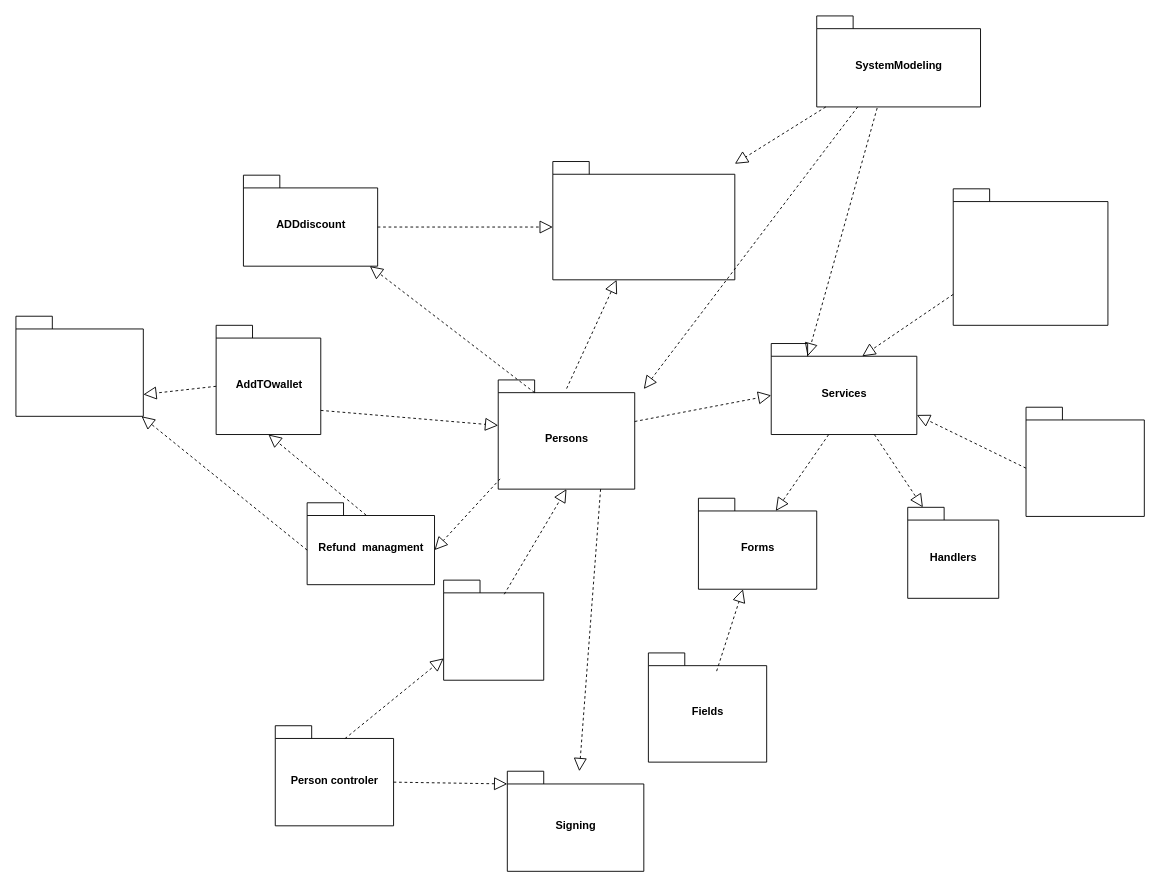
The diagram is 1160 pixels wide and 887 high, and some of its shapes have lost their labels. The centre of each missing label's shape, as x and y in pixels:
"logging" belongs at (493,629).
"Payment" belongs at (643,220).
"Providers" belongs at (1084,461).
"Service Controllers" belongs at (1030,256).
"Transaction Controler" belongs at (79,365).
